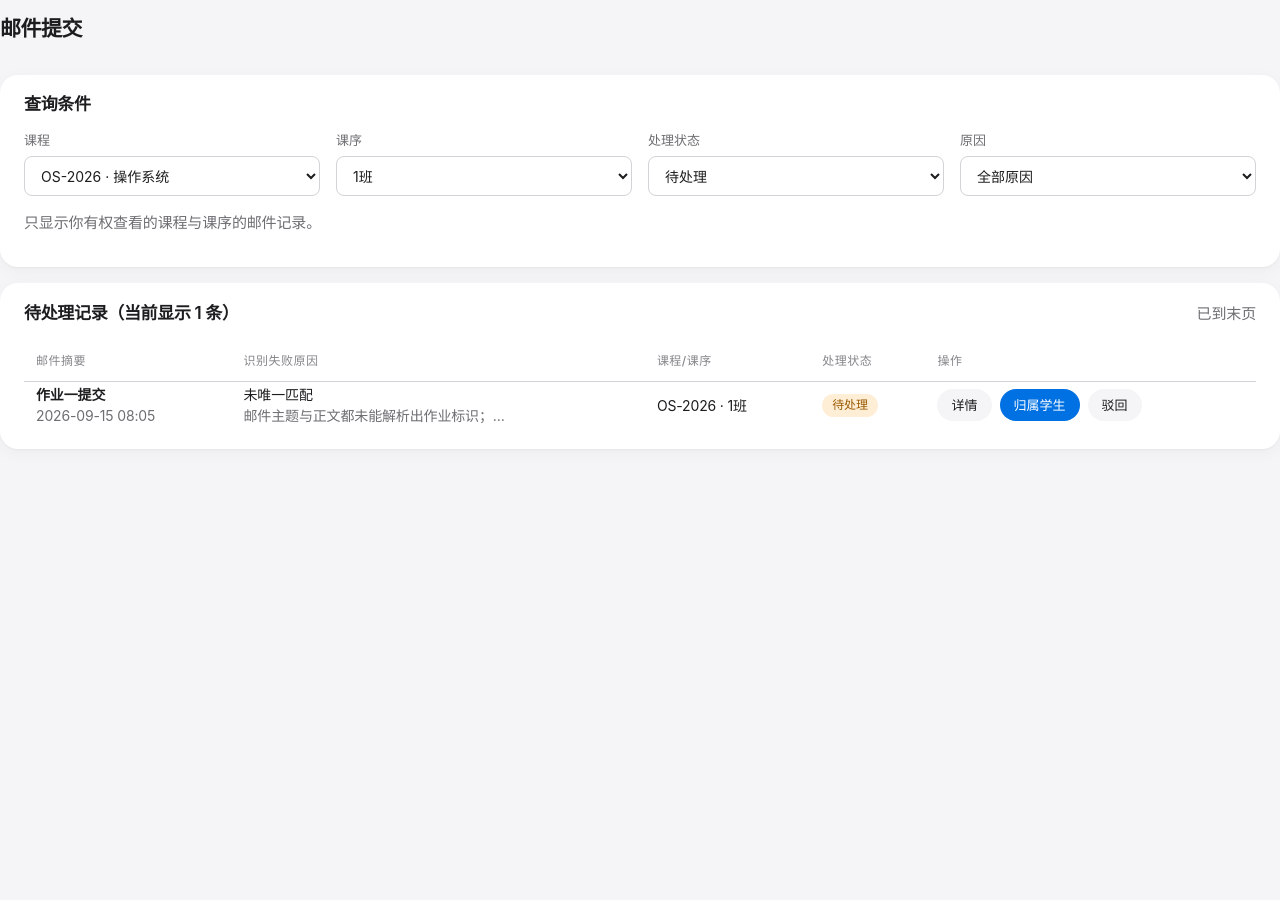
Scenario: P13-A 邮件提交标签 › 驳回：确认前不 POST，确认后体只含 note，成功后提示
Click the button "驳回". click: click(1114, 405)
box: x1=1088 y1=389 x2=1142 y2=421
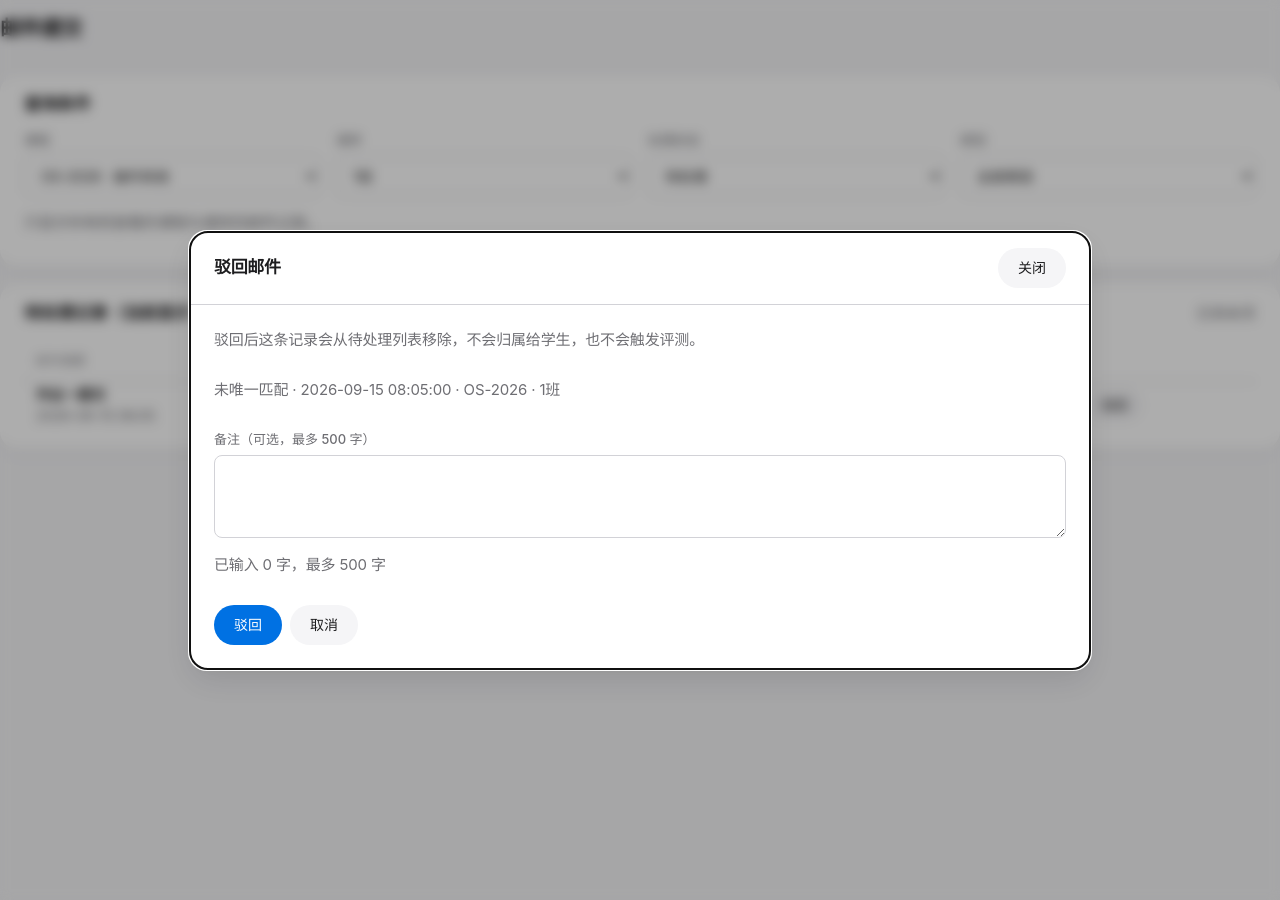
Type "附件是误报" into the text box with test id "review-dismiss-note". click: (640, 496)
box: x1=214 y1=455 x2=1066 y2=538
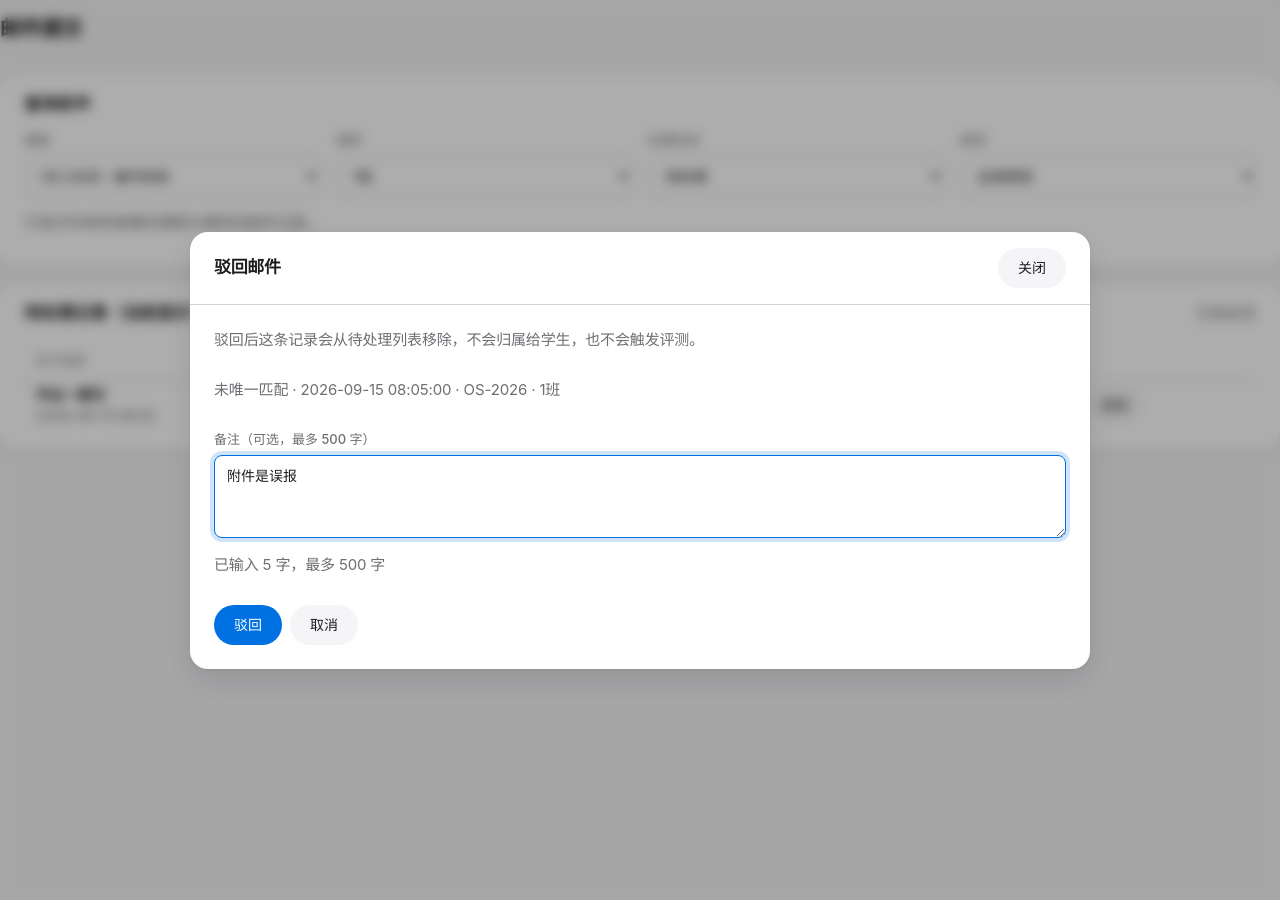
Click the button with test id "review-mail-dismiss-submit". click: click(248, 624)
box: x1=214 y1=604 x2=282 y2=644
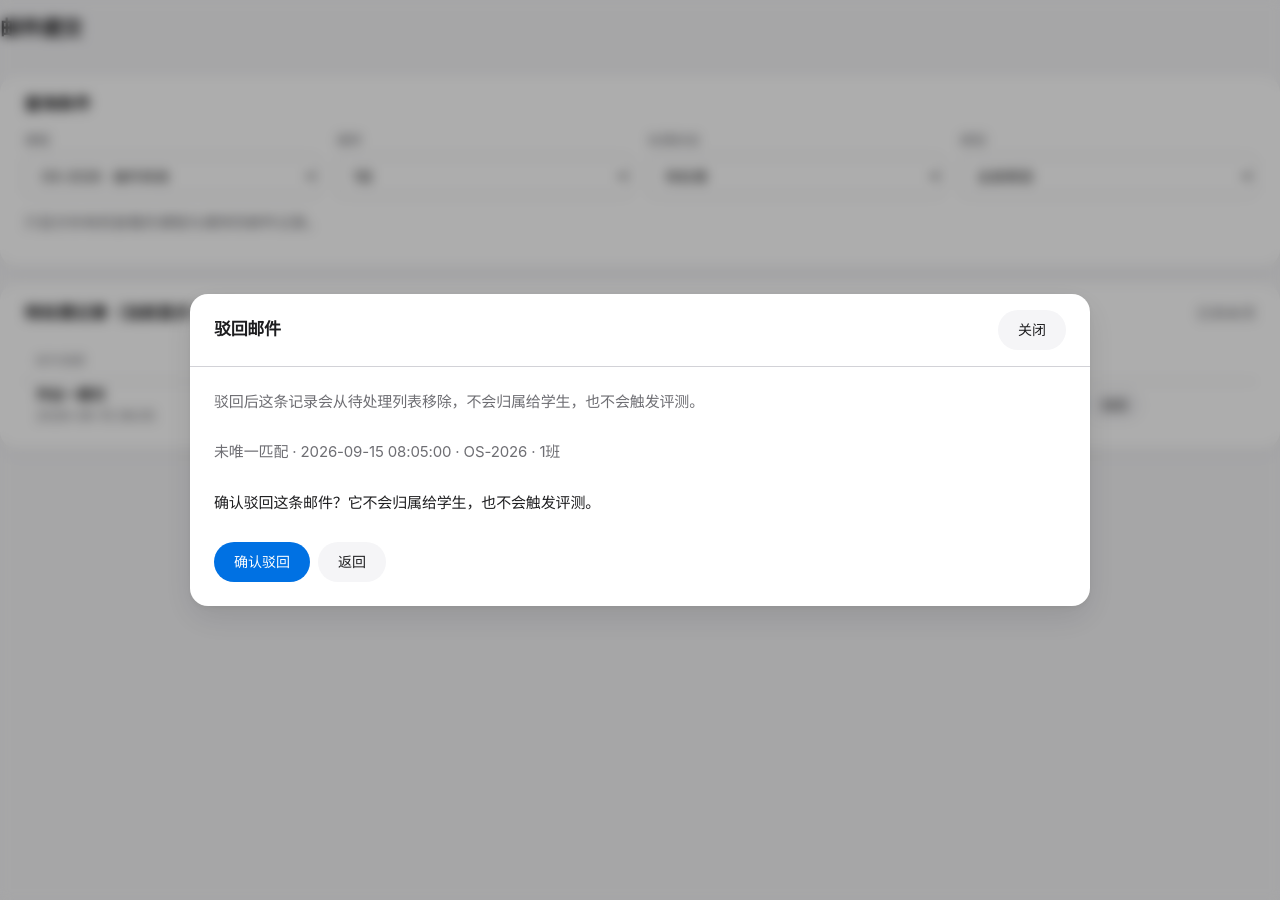
Click the button with test id "review-mail-dismiss-confirm". click: click(262, 562)
box: x1=214 y1=542 x2=310 y2=582
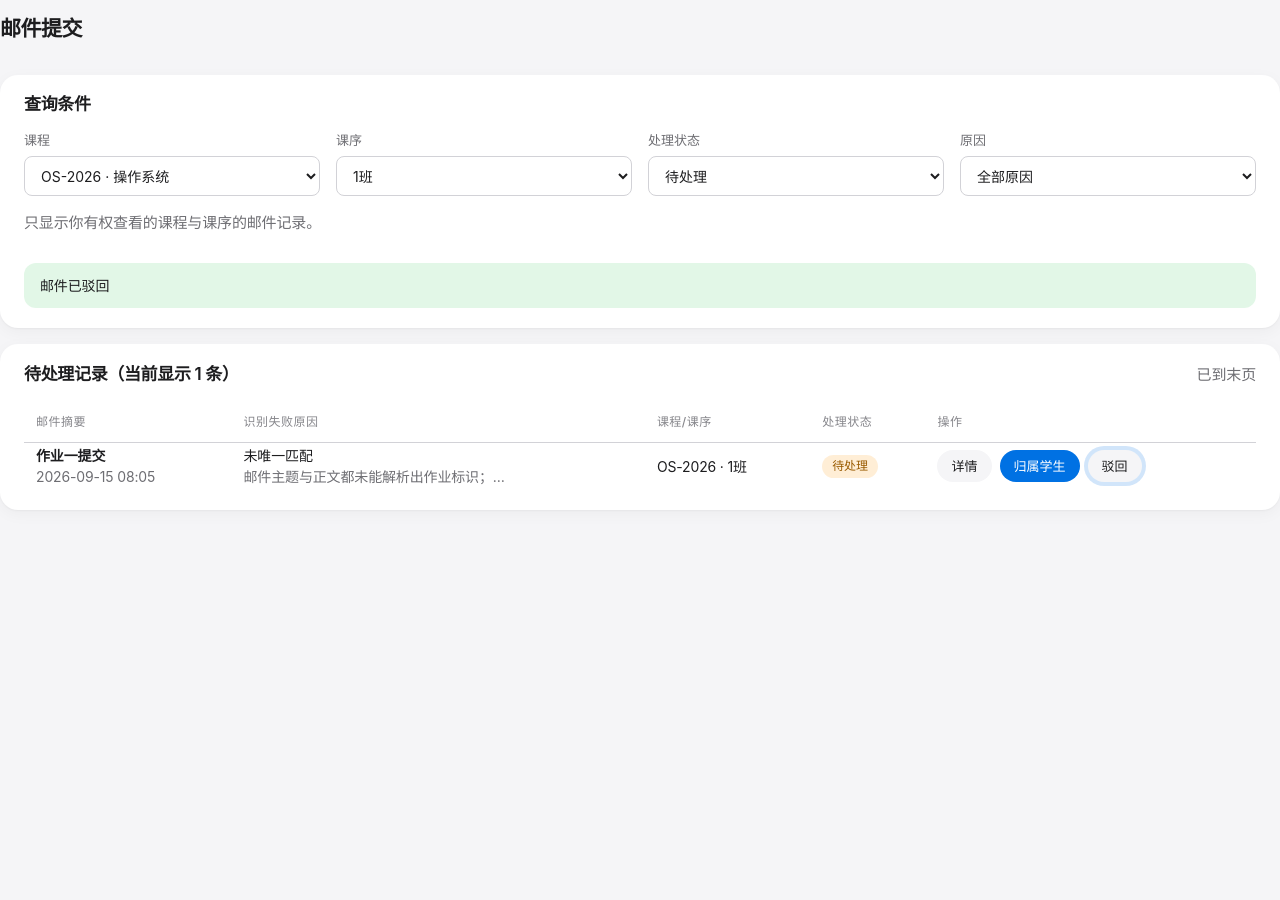
Check: the text with test id "review-mail-resolved-ok" reads "邮件已驳回", box x1=40 y1=276 x2=109 y2=294
